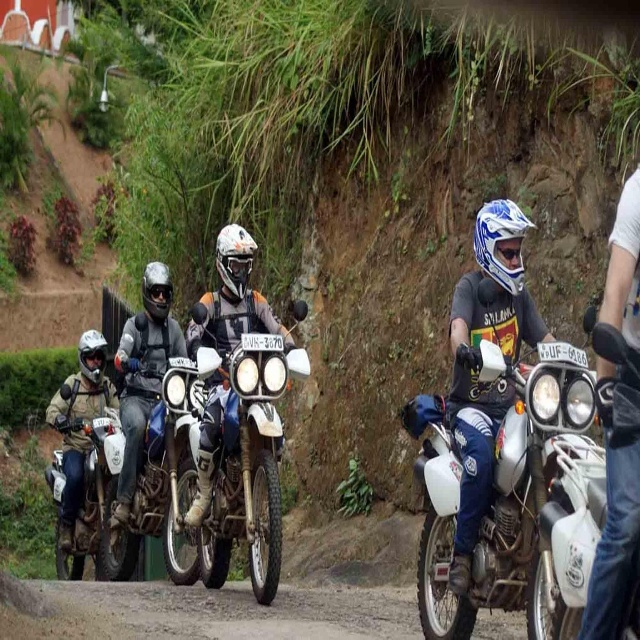Motorcycle: (400, 280, 609, 640), (189, 299, 311, 605), (99, 313, 204, 585), (47, 386, 136, 581)
